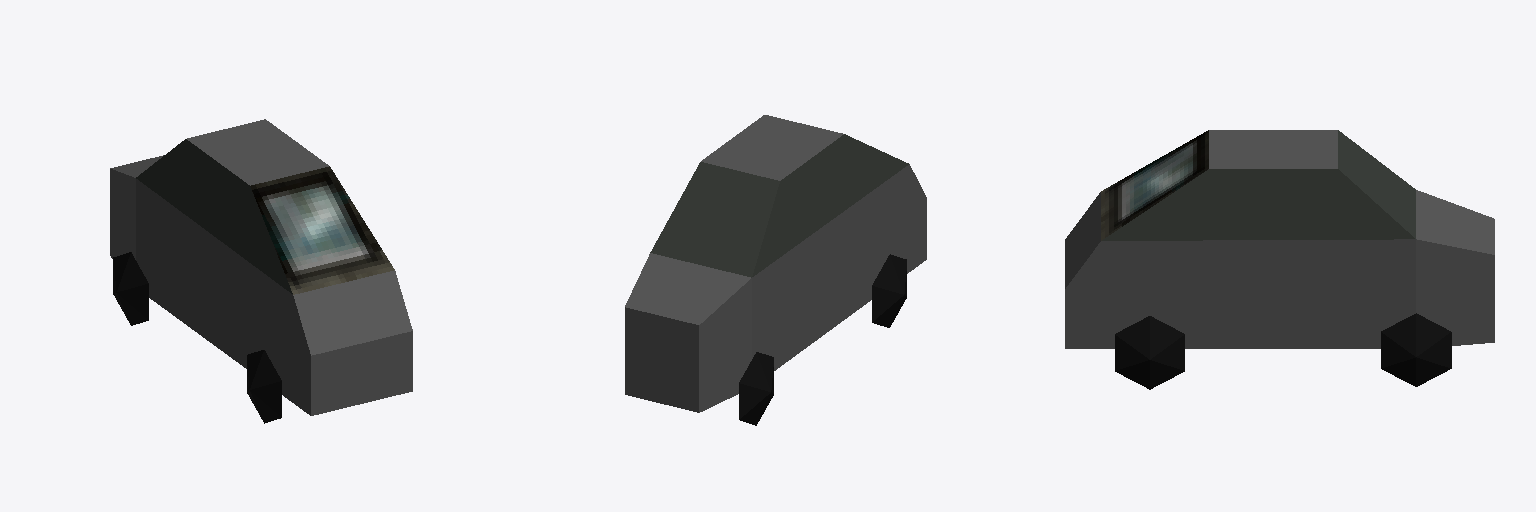
3 renders of one model, left to right at view 1: azimuth 30°, elevation 25°; view 2: azimuth 150°, elevation 25°; view 3: azimuth 270°, elevation 25°, orthographic.
Parts seen in each view (by area): view 1: gtacar1; view 2: gtacar1; view 3: gtacar1.
Boxes of the visible parts, box(x1,y1,x2,y2) form: gtacar1: box(110, 119, 412, 423); gtacar1: box(625, 115, 926, 425); gtacar1: box(1065, 130, 1494, 389).
Bounding box in the file's own units: 1.16 × 1.65 × 3.01.
Materials: 4 (1 with a texture image).